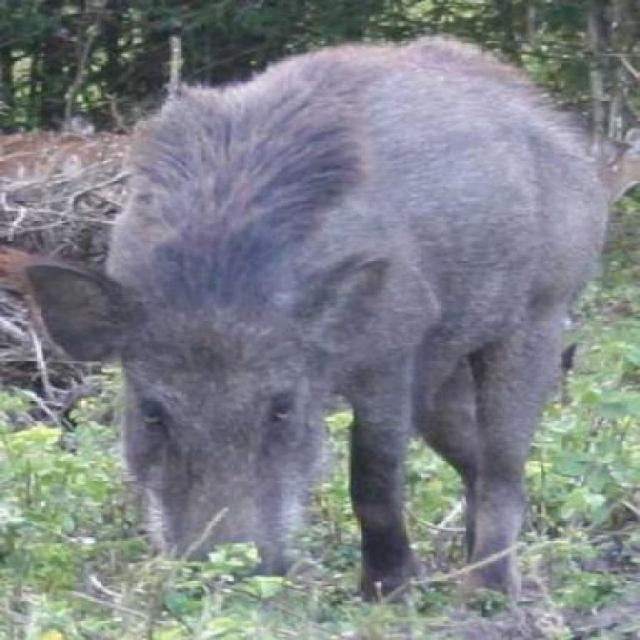pig: (125, 55, 560, 588)
